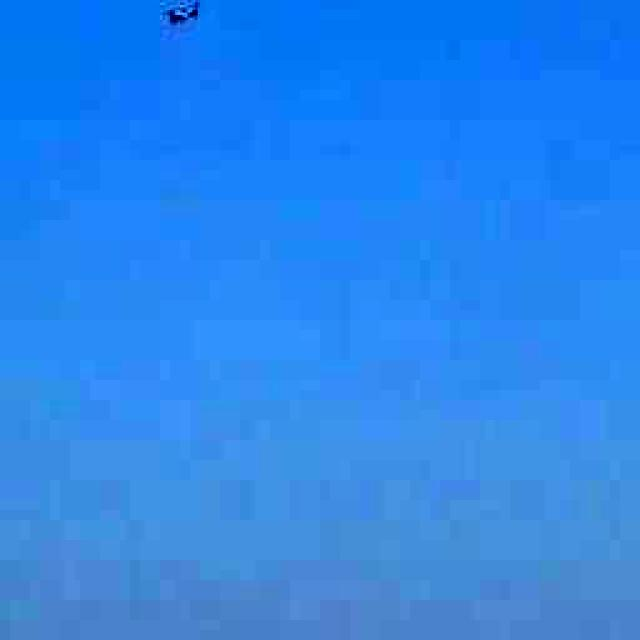bird: (132, 0, 238, 75)
